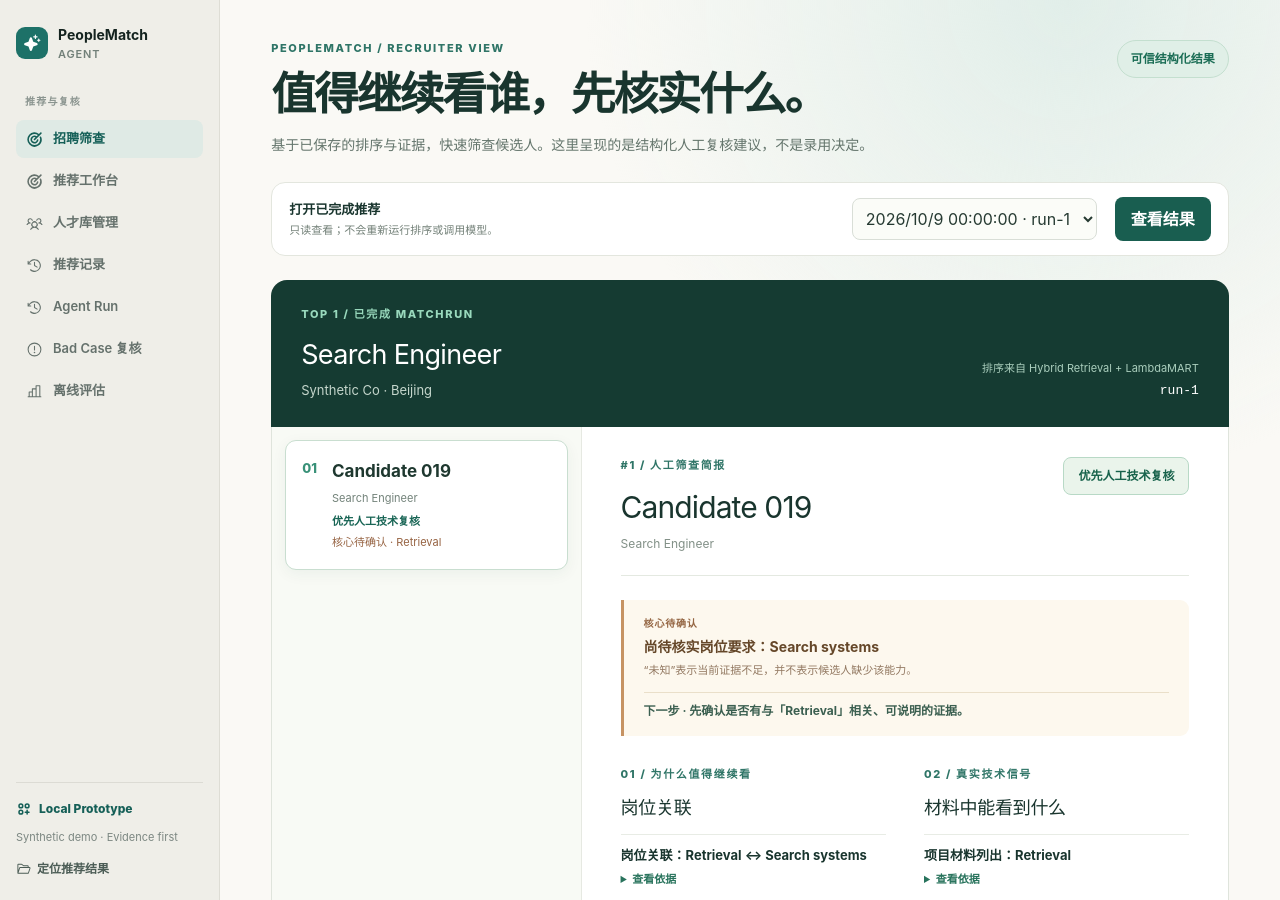
Recruiter View › shows trusted review action and core unknown together without turning rank into probability
The image size is (1280, 900).
Check: the heading "Search Engineer" is shown, box [301,335,501,376]
Check: the 2nd text "优先人工技术复核" is shown, box [332,514,420,528]
Step 1. Click the heading "查看依据" below "岗位关联：Retrieval ↔ Search systems" → point(654, 879), box [632,872,676,886]
(page scrolled)
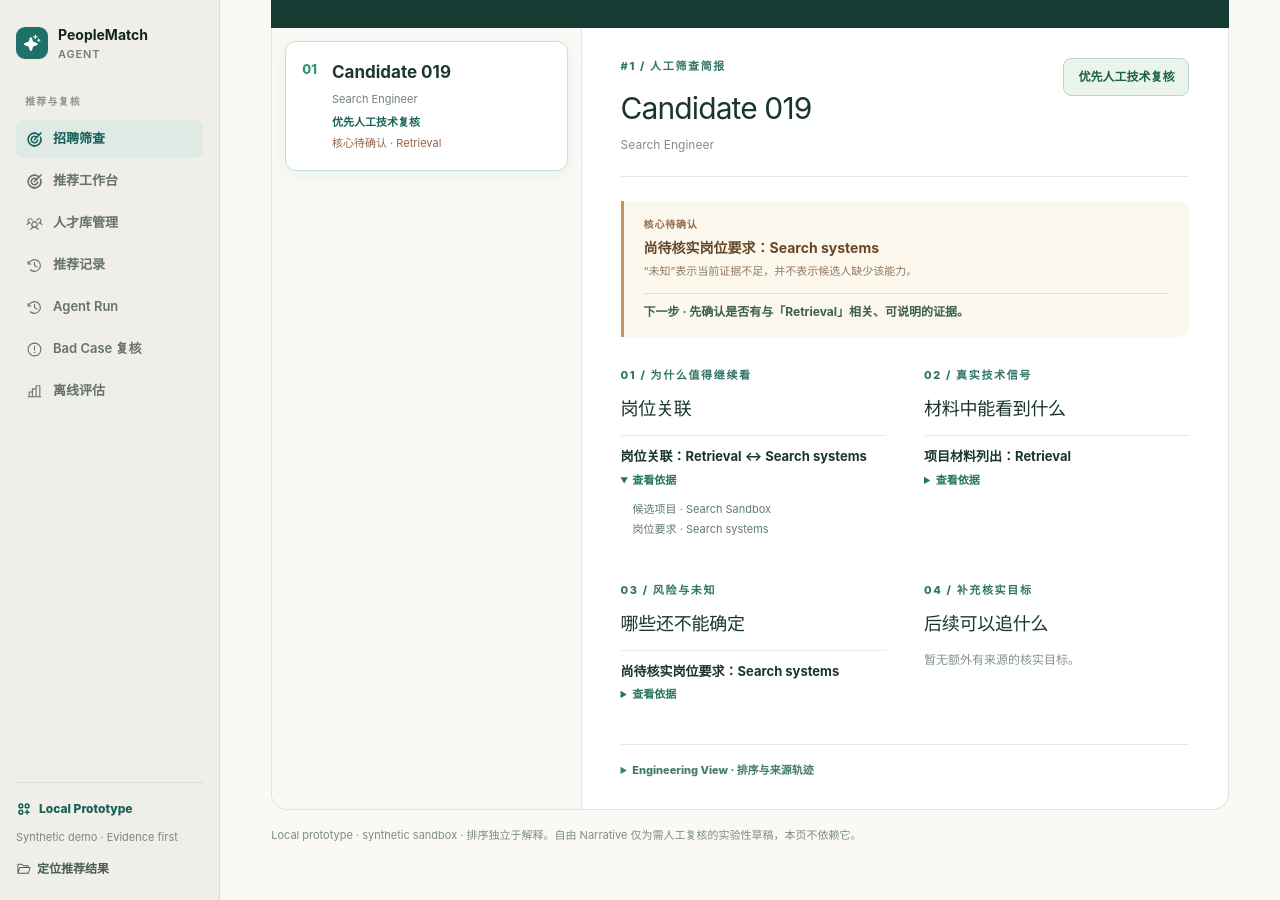
Check: the list item "候选项目 · Search Sandbox" is shown, box [633,502,771,516]
